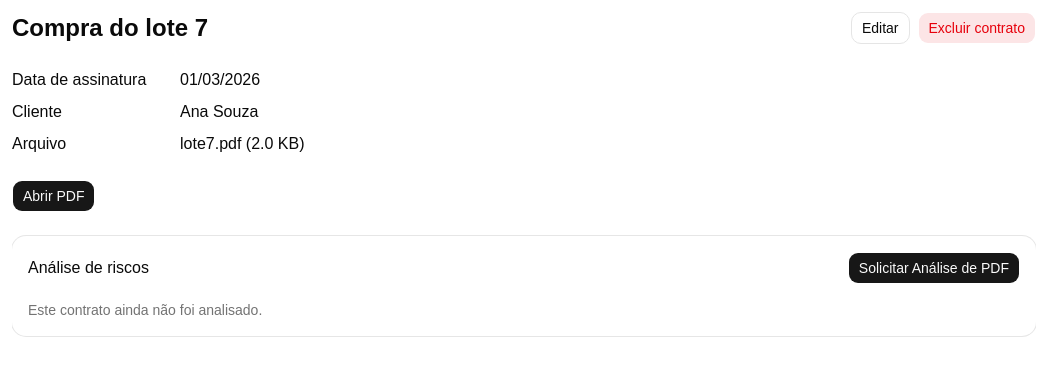
Test: painel de análise › 422 mostra mensagem própria na tela e não usa toast
Click the button "Solicitar Análise de PDF" at (934, 268), box 848,252 -> 1020,284
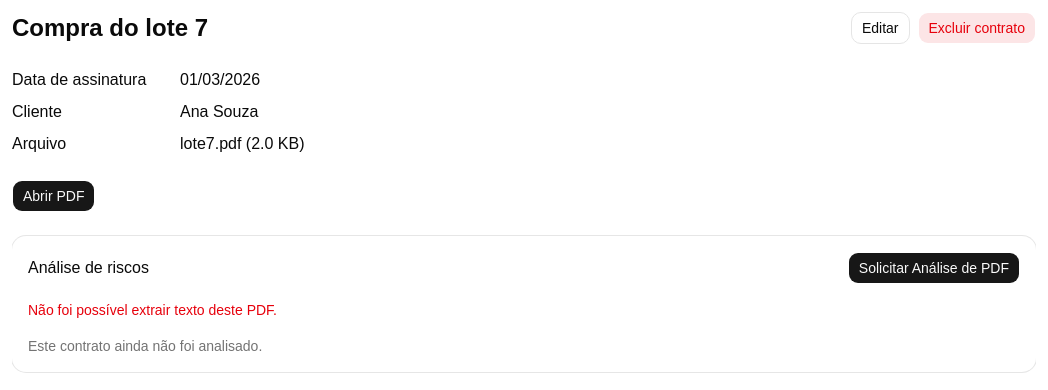
Check: the text "Não foi possível extrair texto deste PDF." is shown, box 28,302 -> 277,318
